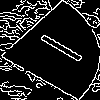I: (25, 25, 87, 65)
